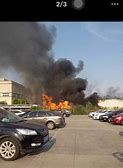smoke: (1, 22, 100, 101)
